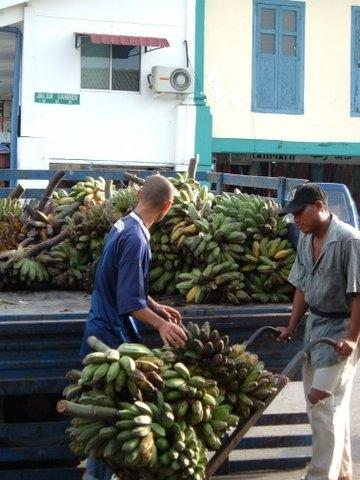banana: (150, 268, 176, 294), (117, 343, 155, 360), (76, 424, 109, 442), (104, 435, 125, 459), (81, 361, 104, 382), (116, 356, 136, 376), (231, 288, 255, 304), (92, 362, 110, 382), (134, 356, 164, 368), (70, 423, 90, 440), (121, 436, 142, 452), (82, 352, 107, 365), (134, 400, 153, 417), (160, 412, 174, 435), (115, 409, 144, 420), (192, 400, 204, 426), (98, 426, 120, 440), (107, 362, 121, 384), (221, 368, 238, 386), (173, 362, 190, 380), (185, 284, 200, 304), (242, 370, 262, 385), (272, 282, 296, 294), (202, 262, 218, 280), (104, 374, 115, 400), (246, 394, 266, 408), (246, 280, 266, 294), (200, 403, 212, 425), (200, 200, 212, 222), (135, 360, 159, 371), (188, 202, 201, 222), (150, 422, 166, 438), (221, 196, 239, 210), (180, 384, 198, 398), (172, 220, 190, 234), (192, 220, 210, 234), (188, 376, 206, 390), (132, 415, 154, 426), (116, 420, 140, 430), (184, 350, 204, 362), (238, 382, 258, 394), (267, 238, 280, 256), (78, 439, 89, 460), (209, 419, 228, 431), (176, 400, 188, 419), (218, 216, 232, 232), (190, 236, 204, 252), (138, 448, 152, 464), (46, 266, 64, 278), (131, 368, 146, 382), (158, 450, 172, 465), (149, 267, 165, 280), (150, 442, 158, 468), (238, 244, 255, 256), (178, 452, 190, 469), (34, 262, 44, 282), (128, 377, 138, 397), (255, 374, 275, 384), (132, 426, 152, 436), (116, 429, 134, 440), (198, 328, 209, 346), (164, 391, 182, 402), (183, 234, 199, 246), (57, 196, 76, 206), (176, 280, 197, 289), (159, 370, 180, 379), (12, 257, 26, 270), (267, 272, 280, 286), (184, 425, 194, 443), (224, 232, 244, 241), (259, 206, 270, 222), (280, 254, 296, 265), (184, 224, 200, 235), (234, 352, 250, 363), (129, 453, 142, 466), (211, 264, 225, 276), (246, 202, 260, 214), (56, 272, 68, 286), (204, 342, 214, 358), (153, 228, 163, 244), (251, 292, 267, 302), (214, 404, 234, 412), (270, 288, 280, 304), (240, 264, 256, 274), (226, 392, 238, 405), (214, 212, 223, 229), (28, 262, 36, 281), (243, 218, 258, 228), (230, 344, 240, 359), (210, 354, 222, 366), (277, 240, 289, 252), (199, 184, 208, 200), (256, 264, 274, 272), (49, 252, 67, 260), (206, 378, 216, 392), (214, 204, 228, 214), (240, 255, 255, 264), (238, 193, 253, 202), (178, 273, 197, 280), (162, 403, 174, 414), (184, 448, 196, 459), (72, 268, 83, 280), (143, 392, 156, 402), (185, 438, 198, 448), (243, 209, 256, 219), (228, 250, 241, 260), (186, 332, 193, 350), (180, 190, 190, 202), (228, 380, 238, 392), (214, 229, 223, 242), (178, 183, 192, 191), (22, 260, 30, 274), (96, 378, 106, 389), (84, 194, 94, 205), (260, 236, 269, 248), (112, 194, 120, 207), (6, 197, 12, 214), (212, 290, 222, 300), (46, 257, 66, 262), (160, 234, 170, 244), (164, 253, 178, 260), (90, 238, 98, 250), (223, 362, 235, 370), (268, 206, 276, 218), (195, 439, 202, 452), (198, 457, 208, 466), (57, 190, 68, 198), (215, 430, 226, 438), (162, 358, 176, 364), (252, 232, 264, 239), (238, 222, 251, 228), (7, 224, 14, 235), (179, 290, 190, 297), (190, 458, 197, 469), (237, 214, 246, 222), (264, 223, 272, 232), (260, 200, 268, 209), (192, 372, 204, 378), (15, 202, 21, 214), (94, 180, 102, 189), (77, 264, 88, 270), (185, 255, 192, 264), (208, 252, 214, 262), (76, 186, 86, 192), (76, 214, 82, 224), (90, 199, 98, 206), (219, 388, 226, 396), (14, 218, 18, 229), (108, 198, 115, 204), (242, 202, 249, 208), (170, 402, 176, 409), (68, 245, 72, 255), (84, 248, 90, 253), (227, 284, 233, 288), (106, 199, 110, 202)
